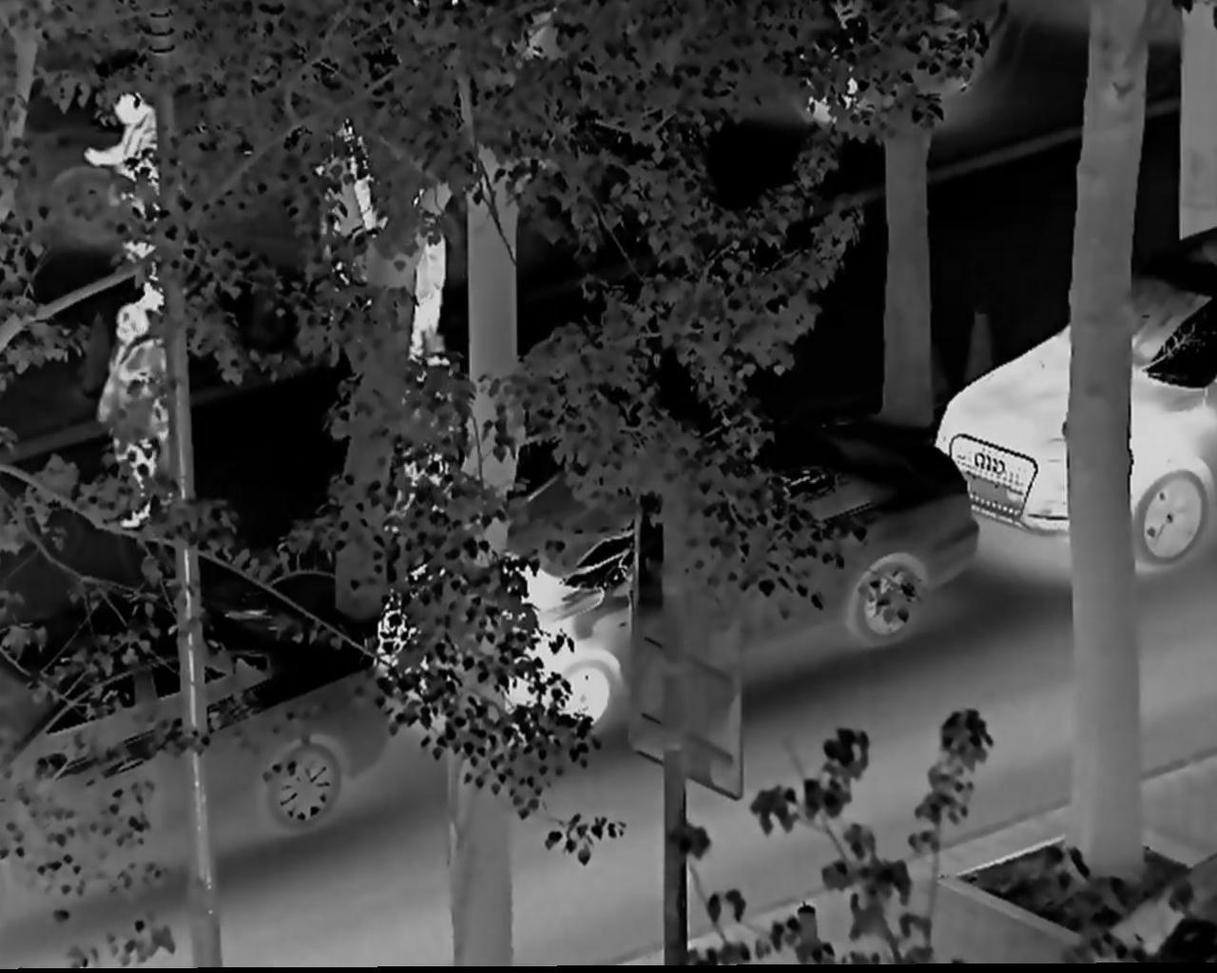person: (89, 300, 177, 525), (86, 86, 165, 220)
